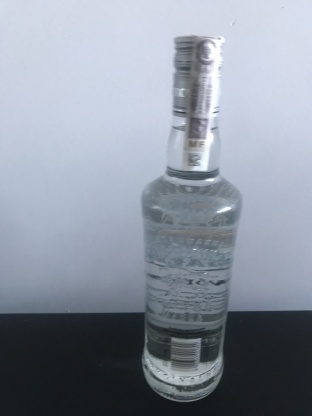nakretka: (169, 30, 226, 122)
